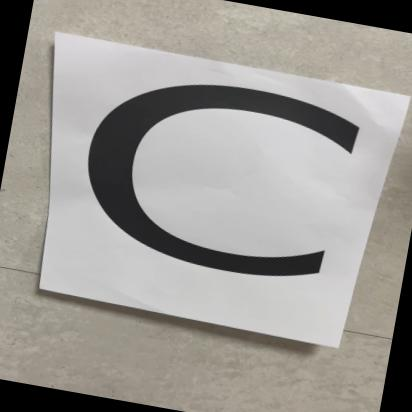seat: (4, 26, 400, 354)
